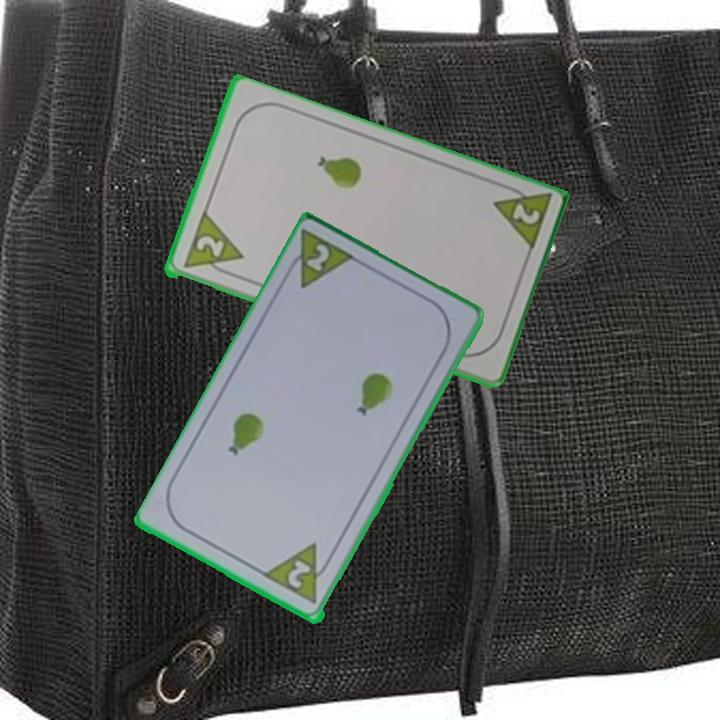2p: (488, 179, 554, 256), (179, 211, 246, 281), (284, 556, 315, 592), (303, 240, 333, 275)
